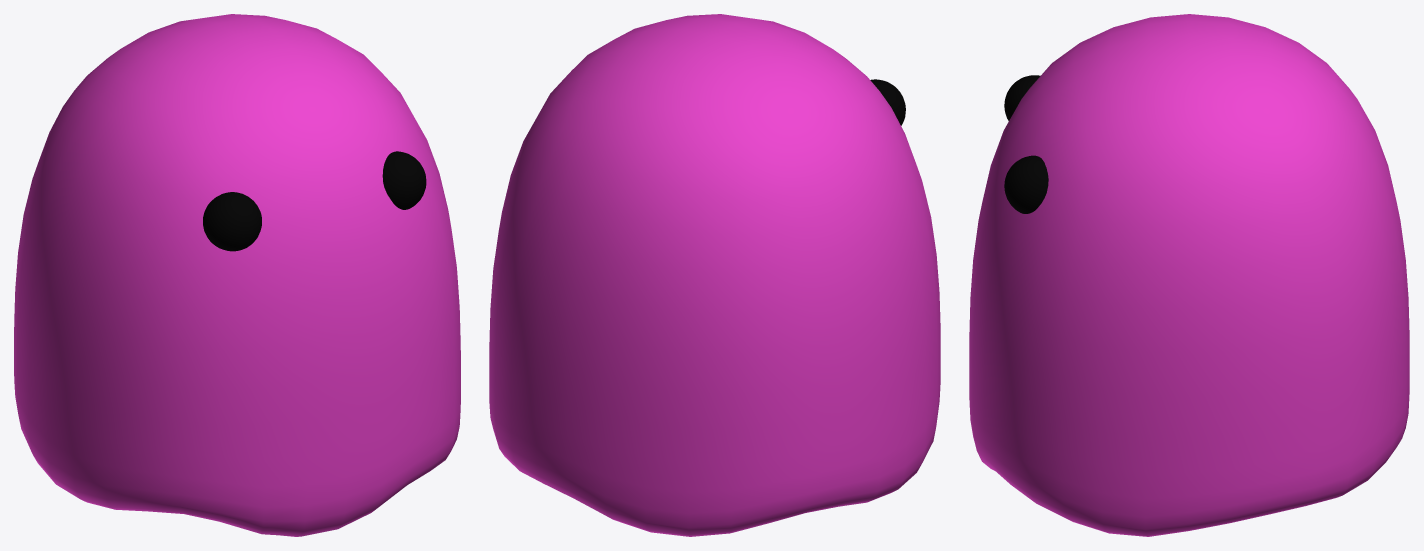
The model's file is Ghost3.glb.
3 renders of one model, left to right at view 1: azimuth 30°, elevation 25°; view 2: azimuth 150°, elevation 25°; view 3: azimuth 270°, elevation 25°, orthographic.
Visible parts, largest first — view 1: Pink, Sphere; view 2: Pink, Sphere; view 3: Pink, Sphere.
Boxes of the visible parts, box(x1,y1,x2,y2) form: Pink: box(14, 14, 460, 536); Sphere: box(203, 151, 426, 251); Pink: box(489, 14, 940, 536); Sphere: box(870, 79, 905, 125); Pink: box(969, 14, 1409, 536); Sphere: box(1004, 75, 1048, 213).
Bounding box in the file's own units: 1.83 × 1.99 × 1.83.
